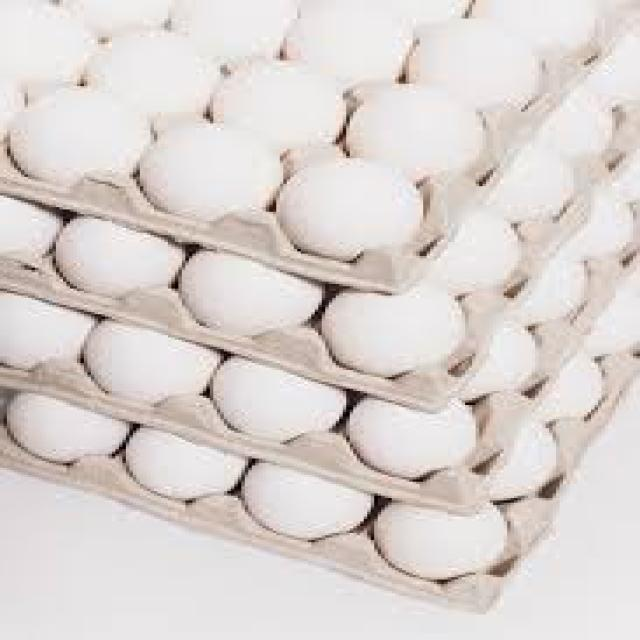White Egg: (175, 235, 324, 344), (137, 118, 288, 218), (85, 317, 223, 415), (382, 491, 508, 598), (326, 288, 472, 379), (15, 82, 140, 182), (119, 419, 255, 510), (236, 458, 370, 550), (4, 388, 133, 480), (215, 354, 332, 453), (345, 84, 478, 170), (299, 164, 419, 258), (216, 58, 340, 148), (62, 210, 176, 300), (334, 395, 461, 474), (418, 12, 516, 108), (4, 289, 86, 372), (0, 192, 63, 279)
